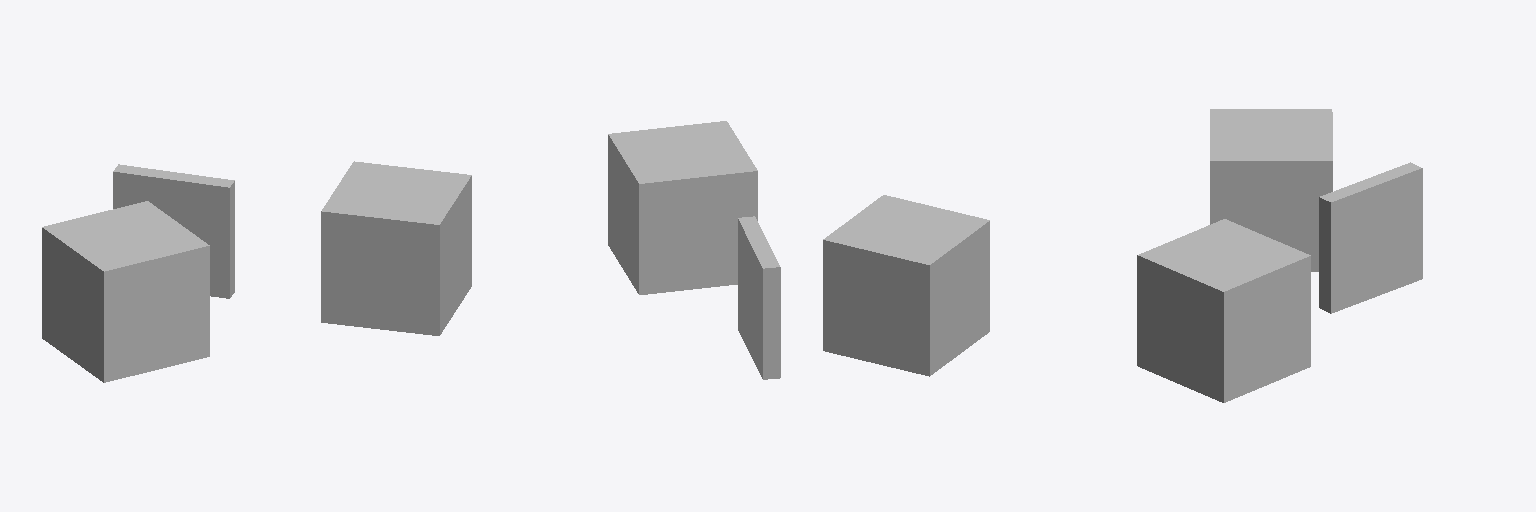
The model's file is ReflectionTest.obj.
3 renders of one model, left to right at view 1: azimuth 30°, elevation 25°; view 2: azimuth 150°, elevation 25°; view 3: azimuth 270°, elevation 25°, orthographic.
Visible parts, largest first — view 1: Cube.001_Cube.022, Cube_Cube.021, Cube.002_Cube.023; view 2: Cube.001_Cube.022, Cube_Cube.021, Cube.002_Cube.023; view 3: Cube_Cube.021, Cube.001_Cube.022, Cube.002_Cube.023.
Part boxes in pixels (x1,y1,x2,y2): Cube.001_Cube.022: (42, 201, 209, 382); Cube_Cube.021: (321, 161, 471, 335); Cube.002_Cube.023: (113, 164, 234, 298); Cube.001_Cube.022: (823, 195, 989, 376); Cube_Cube.021: (608, 121, 757, 294); Cube.002_Cube.023: (738, 216, 780, 379); Cube_Cube.021: (1137, 219, 1310, 402); Cube.001_Cube.022: (1210, 109, 1332, 271); Cube.002_Cube.023: (1319, 162, 1422, 313).
Bounding box in the file's own units: 7.07 × 2 × 4.64.